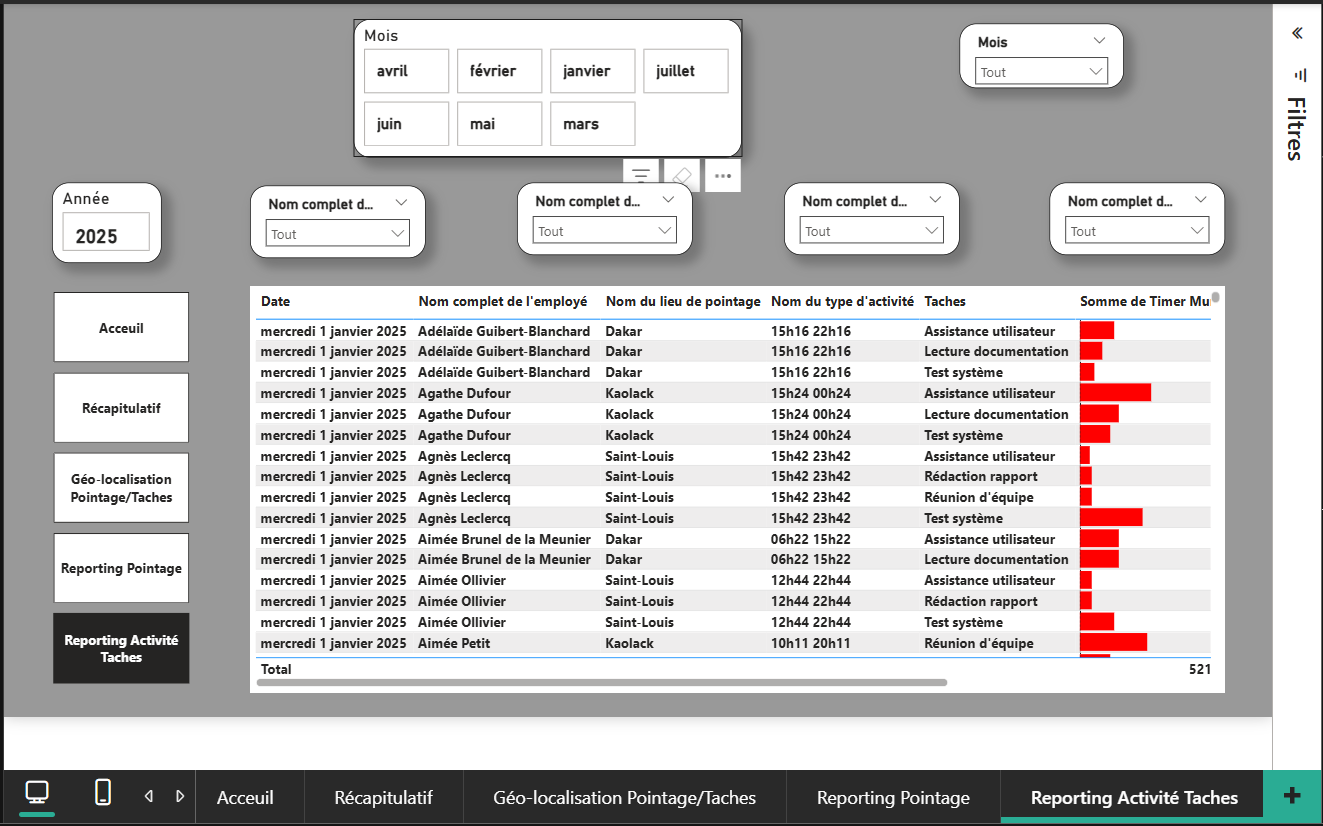

The page's visual inventory and layout, read from the dashboard file:
{"tool":"powerbi","page":{"name":"Reporting Activité Taches","canvas":[1280,720],"ordinal":4},"visuals":[{"type":"advancedSlicerVisual","fields":{"Values":["TableDate.Mois"]},"box":[353,14.6,392,139.9],"z":0},{"type":"slicer","fields":{"Values":["TableDate.Mois"]},"box":[964.5,19.5,165.9,65.1],"z":1000},{"type":"advancedSlicerVisual","fields":{"Values":["TableDate.Année"]},"box":[48.8,180.5,110.6,81.3],"z":2000},{"type":"slicer","fields":{"Values":["Sheet1.Nom complet de l'employé"]},"box":[248.9,183.8,177.3,73.2],"z":3000},{"type":"slicer","fields":{"Values":["Sheet1.Nom complet de l'employé"]},"box":[517.8,180.5,177.3,73.2],"z":4000},{"type":"slicer","fields":{"Values":["Sheet1.Nom complet de l'employé"]},"box":[786.7,180.5,177.3,73.2],"z":5000},{"type":"slicer","fields":{"Values":["Sheet1.Nom complet de l'employé"]},"box":[1055.6,180.5,177.3,73.2],"z":6000},{"type":"tableEx","fields":{"Values":["TableDate.Date","Sheet1.Nom complet de l'employé","Sheet1.Nom du lieu de pointage","Sheet1.Nom du type d'activité","Sheet1 (2).Taches","Sum(Sheet1.Timer Munite)","Sum(Sheet1.Heures Timer)","Sum(Sheet1.Minutes Timer)"]},"box":[248.9,284.6,984.1,409.9],"z":7000},{"type":"pageNavigator","box":[49.5,290.8,137.4,396.2],"z":8000}]}

Visuals, with their boxes on the page's 1280x720 design canvas (x1, y1, x2, y2). These are canvas units, not pixel positions in the 1323x826 screenshot, which may show the page scaled, cropped or inside an application window:
advancedSlicerVisual - TableDate.Mois: {"left": 353, "top": 15, "right": 745, "bottom": 154}
slicer - TableDate.Mois: {"left": 964, "top": 20, "right": 1130, "bottom": 85}
advancedSlicerVisual - TableDate.Année: {"left": 49, "top": 180, "right": 159, "bottom": 262}
slicer - Sheet1.Nom complet de l'employé: {"left": 249, "top": 184, "right": 426, "bottom": 257}
slicer - Sheet1.Nom complet de l'employé: {"left": 518, "top": 180, "right": 695, "bottom": 254}
slicer - Sheet1.Nom complet de l'employé: {"left": 787, "top": 180, "right": 964, "bottom": 254}
slicer - Sheet1.Nom complet de l'employé: {"left": 1056, "top": 180, "right": 1233, "bottom": 254}
tableEx - TableDate.Date x Sheet1.Nom complet de l'employé: {"left": 249, "top": 285, "right": 1233, "bottom": 694}
pageNavigator: {"left": 50, "top": 291, "right": 187, "bottom": 687}
